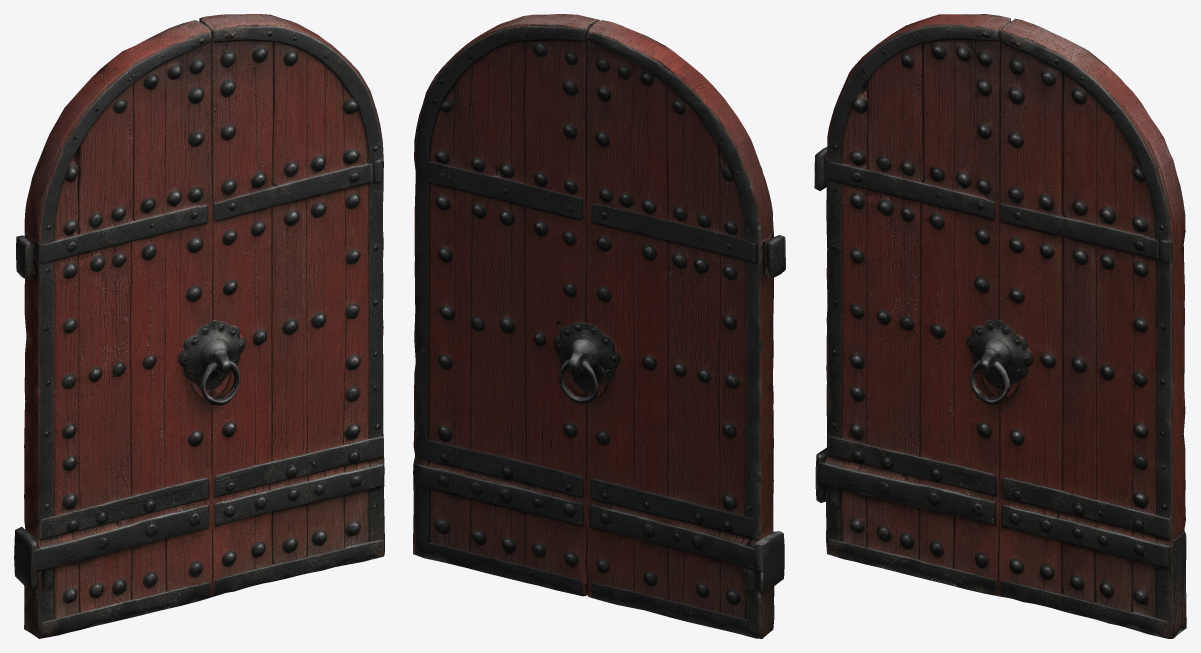
Rendered from door.fbx.
3 renders of one model, left to right at view 1: azimuth 30°, elevation 25°; view 2: azimuth 150°, elevation 25°; view 3: azimuth 330°, elevation 25°, orthographic.
Visible parts, largest first — view 1: texture_mapping; view 2: texture_mapping; view 3: texture_mapping.
Part boxes in pixels (x1,y1,x2,y2): texture_mapping: (14, 14, 384, 638); texture_mapping: (413, 14, 785, 638); texture_mapping: (814, 14, 1186, 638).
Bounding box in the file's own units: 0.6627 × 0.1373 × 1.
Materials: 1 (1 with a texture image).
